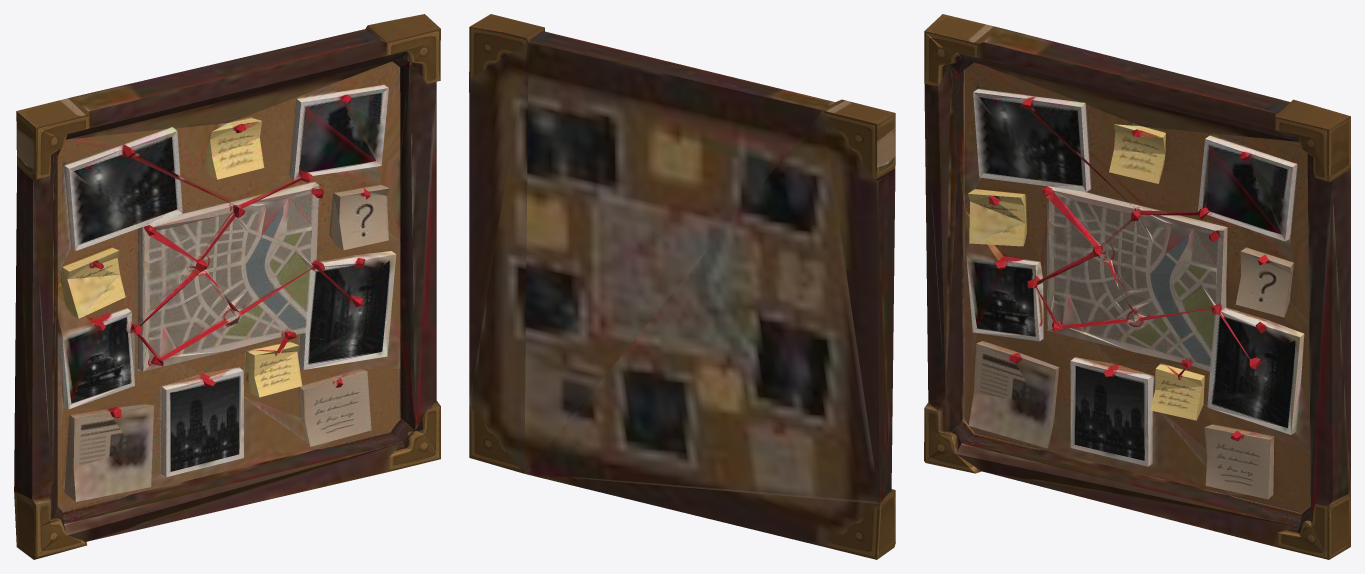
File: quadro_cortica.glb
The picture shows the model from 3 angles, left to right: view 1: azimuth 30°, elevation 25°; view 2: azimuth 150°, elevation 25°; view 3: azimuth 330°, elevation 25°; orthographic projection.
Visible parts, largest first — view 1: Mesh_0; view 2: Mesh_0; view 3: Mesh_0.
Part boxes in pixels (<box>): Mesh_0: <box>14,14,440,559</box>; Mesh_0: <box>469,14,895,559</box>; Mesh_0: <box>924,14,1350,559</box>.
Size of the model in its own units: 1.6 by 1.62 by 0.1348.
Materials: 1 (1 with a texture image).
